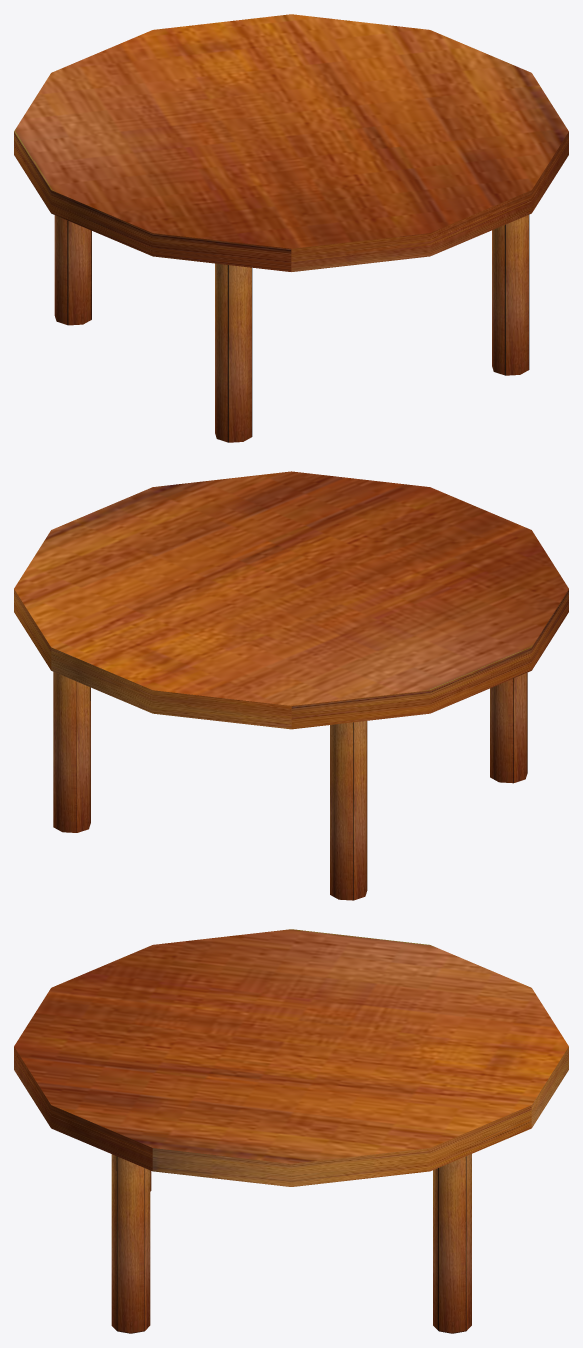
The model's file is Table.FBX.
The picture shows the model from 3 angles, top to bottom: view 1: azimuth 30°, elevation 25°; view 2: azimuth 150°, elevation 25°; view 3: azimuth 270°, elevation 25°; orthographic projection.
Visible parts, largest first — view 1: Mesh_Table, Mesh_Table_leg; view 2: Mesh_Table, Mesh_Table_leg; view 3: Mesh_Table, Mesh_Table_leg.
Part boxes in pixels (box(x1,y1,x2,y2)): Mesh_Table: box(14, 14, 568, 271); Mesh_Table_leg: box(54, 215, 529, 442); Mesh_Table: box(14, 471, 568, 729); Mesh_Table_leg: box(53, 672, 527, 900); Mesh_Table: box(14, 929, 568, 1186); Mesh_Table_leg: box(111, 1154, 471, 1333).
Size of the model in its own units: 69.75 by 29.31 by 69.75.
